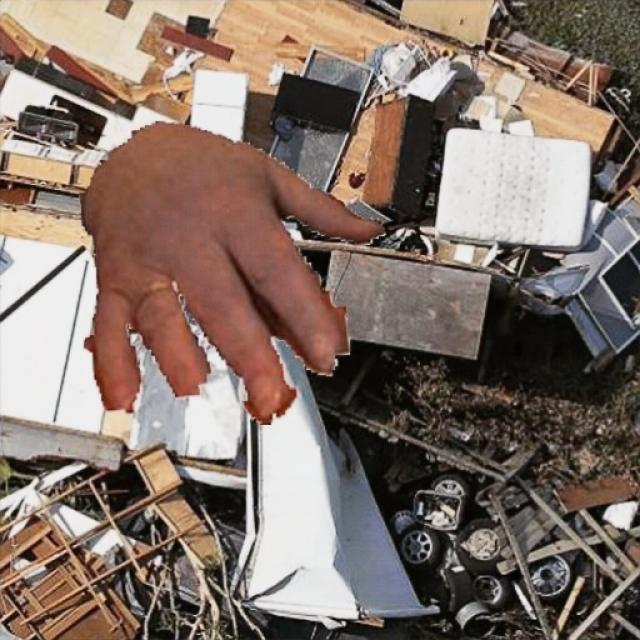Person in Rubble: (78, 121, 386, 424)
